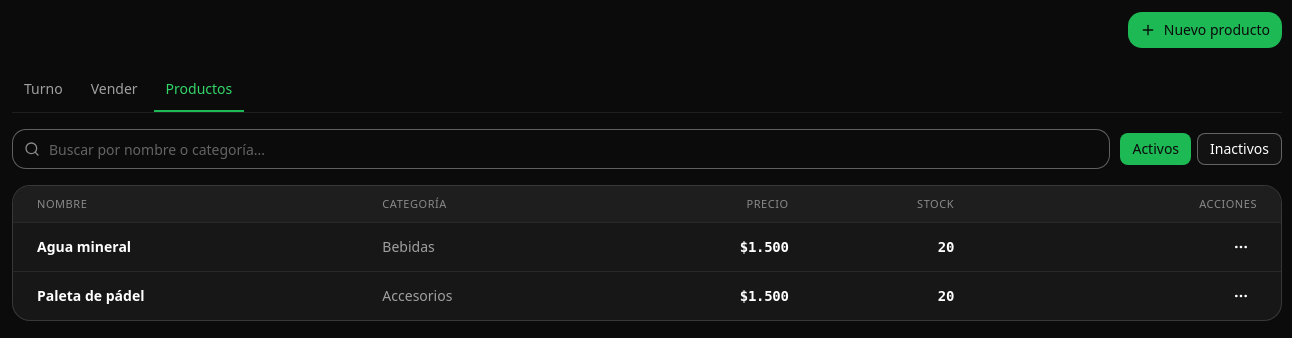
ProductsPage › filters the visible list by name/category as the owner types, client-side
The width and height of the screenshot is (1292, 338).
Type "pádel" into the field labelled "Buscar por nombre o categoría...".
click(561, 149); type("pádel")  # box [12,129,1110,169]
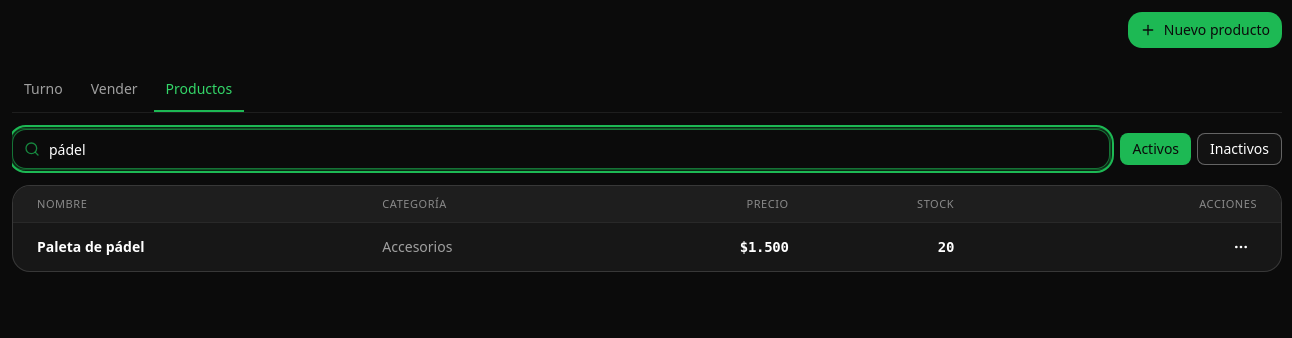
Expected: the button "Paleta de pádel" is shown, [37,236,144,256]
Expected: the button "Agua mineral" is gone
